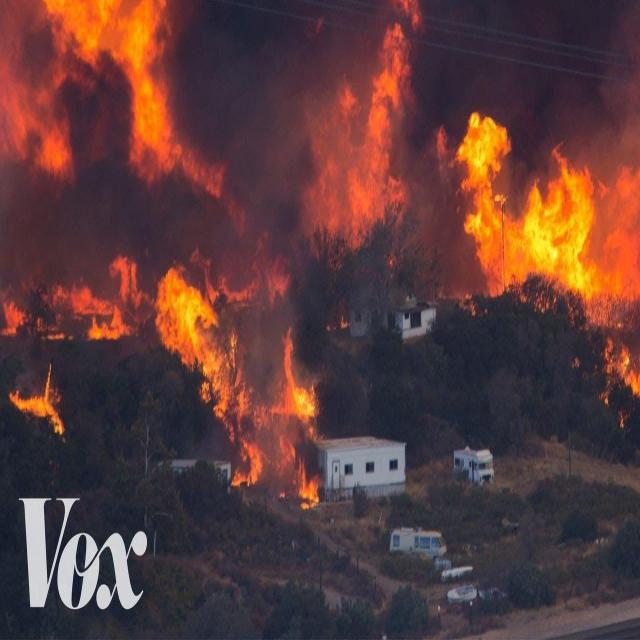fire: (161, 253, 331, 512), (447, 132, 619, 324), (12, 236, 138, 443)
smoke: (206, 19, 345, 179)
